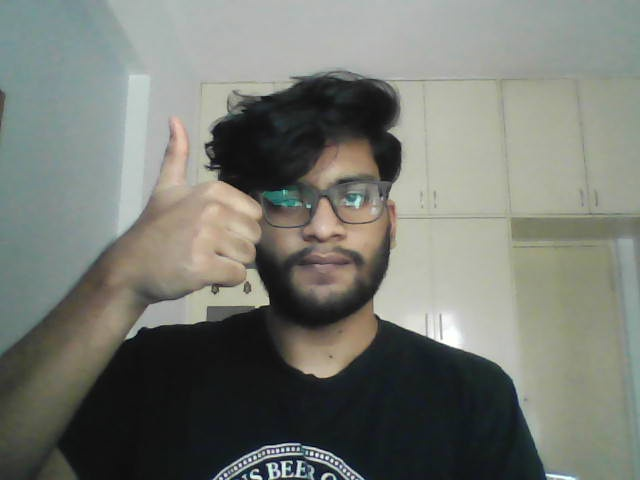Thumbsup: (107, 113, 267, 308)
